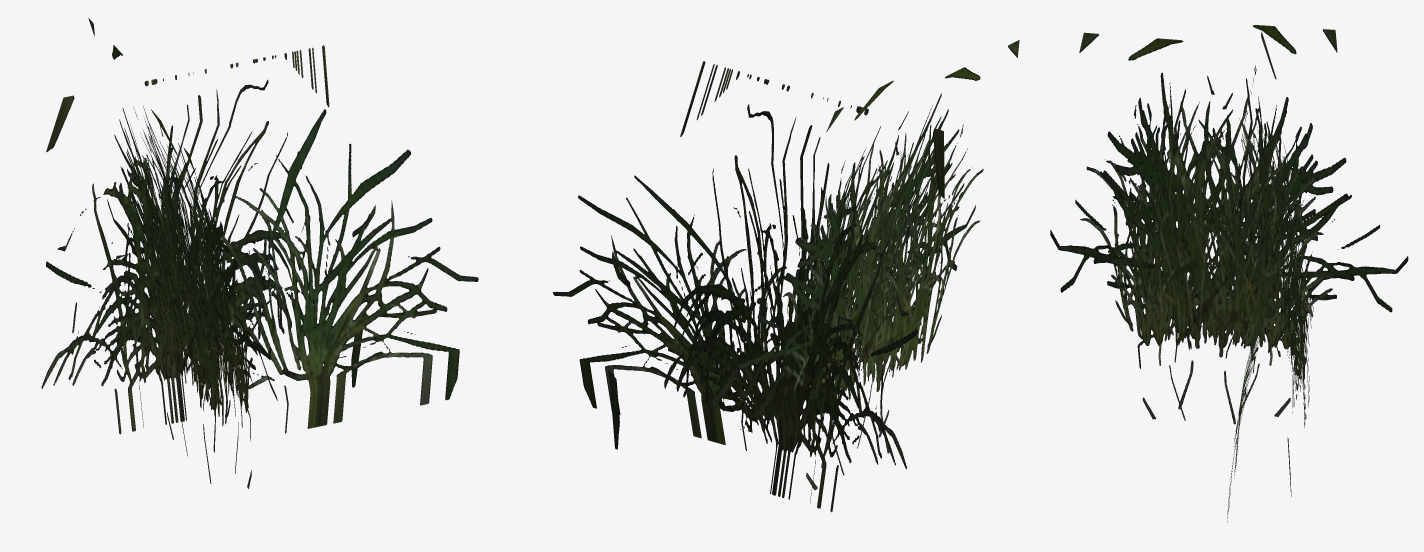
The model's file is forest_grass_003_a_LOD2.gltf.
3 views of the same model, side by side, from view 1: azimuth 30°, elevation 25°; view 2: azimuth 150°, elevation 25°; view 3: azimuth 270°, elevation 25° (orthographic). The views are drawn at different scales.
Parts seen in each view (by area): view 1: meadow_grass_002_a_LOD2; view 2: meadow_grass_002_a_LOD2; view 3: meadow_grass_002_a_LOD2.
Boxes of the visible parts, x1=… form: meadow_grass_002_a_LOD2: x1=41, y1=18, x2=478, y2=488; meadow_grass_002_a_LOD2: x1=553, y1=40, x2=1019, y2=512; meadow_grass_002_a_LOD2: x1=1050, y1=25, x2=1408, y2=522.
Bounding box in the file's own units: 0.9097 × 0.8265 × 0.744.
